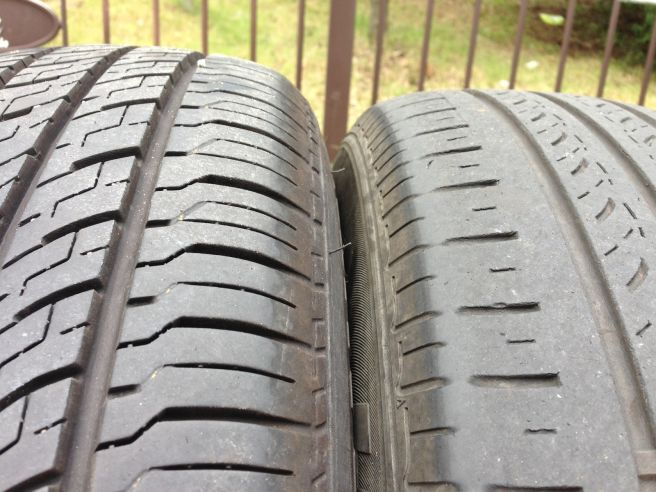new_condition: (1, 46, 336, 484)
